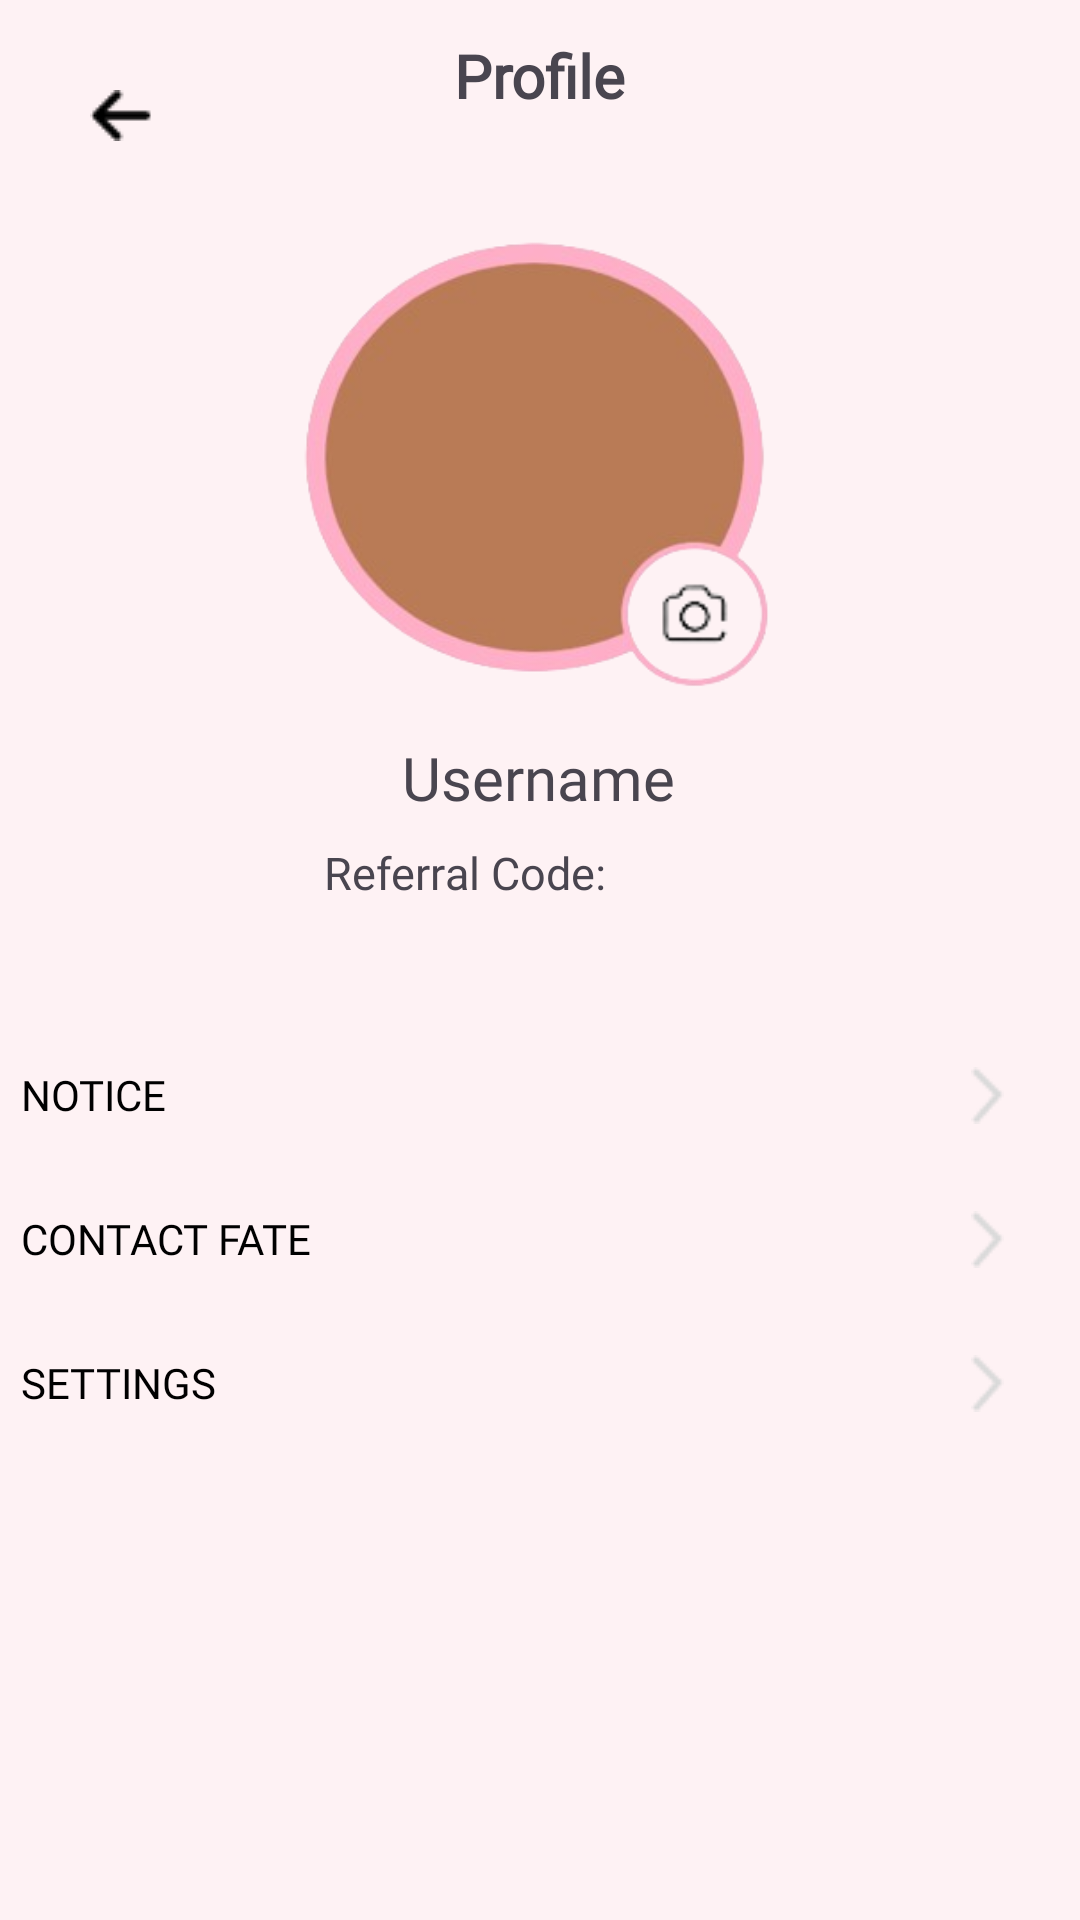

Icon bounding boxes for this 1080 × 1920 phone screenshot, format detection(x1, y1, x2, y2):
backbutton: detection(90, 90, 151, 141)
